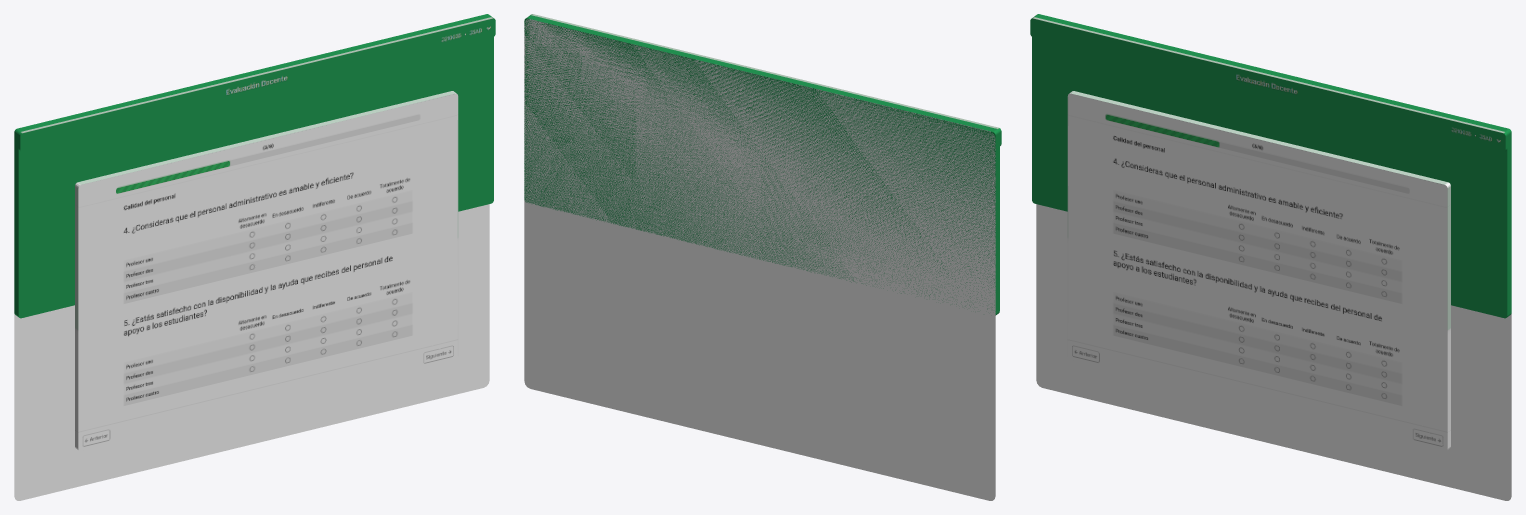
File: uaeval3D.gltf
3 renders of one model, left to right at view 1: azimuth 30°, elevation 25°; view 2: azimuth 150°, elevation 25°; view 3: azimuth 330°, elevation 25°, orthographic.
Parts seen in each view (by area): view 1: MainBoard, Bg2, Bg1, Nav; view 2: Bg1, Bg2, Nav; view 3: MainBoard, Bg2, Bg1, Nav.
Boxes of the visible parts, x1,y1,x2,y2 form: MainBoard: [75, 91, 458, 451]; Bg2: [14, 14, 493, 318]; Bg1: [14, 204, 489, 500]; Nav: [18, 17, 495, 151]; Bg1: [524, 19, 995, 500]; Bg2: [524, 15, 999, 315]; Nav: [530, 14, 1001, 145]; MainBoard: [1067, 91, 1450, 451]; Bg2: [1032, 14, 1511, 318]; Bg1: [1036, 204, 1511, 500]; Nav: [1030, 17, 1507, 151].
Size of the model in its own units: 1.6 by 1.2 by 0.095.
Materials: 3 (1 with a texture image).
